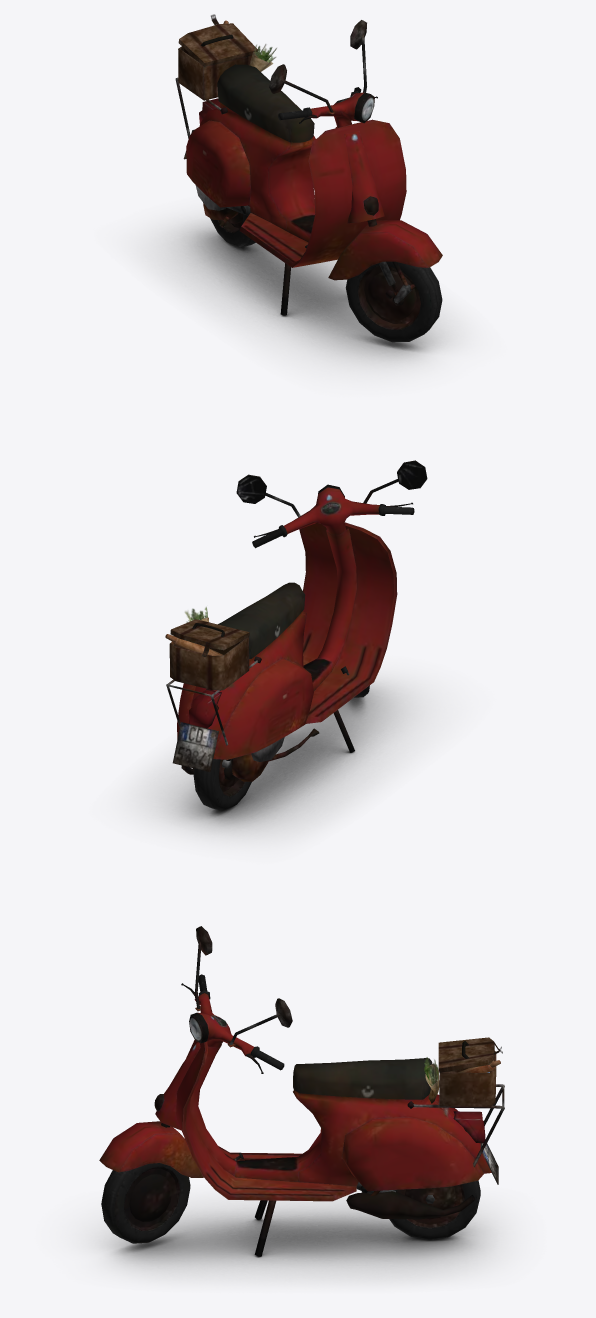
The model's file is prop_vespa.glb.
3 renders of one model, top to bottom at view 1: azimuth 30°, elevation 25°; view 2: azimuth 150°, elevation 25°; view 3: azimuth 270°, elevation 25°, orthographic.
Visible parts, largest first — view 1: Object_4, Object_3; view 2: Object_4, Object_3; view 3: Object_4, Object_3.
Boxes of the visible parts, <box> form: Object_4: <box>175,14,442,342</box>; Object_3: <box>130,209,472,379</box>; Object_4: <box>165,460,427,810</box>; Object_3: <box>125,671,453,845</box>; Object_4: <box>99,926,504,1256</box>; Object_3: <box>74,1191,514,1285</box>.
Bounding box in the file's own units: 164 × 155 × 289.
Materials: 2 (2 with a texture image).
